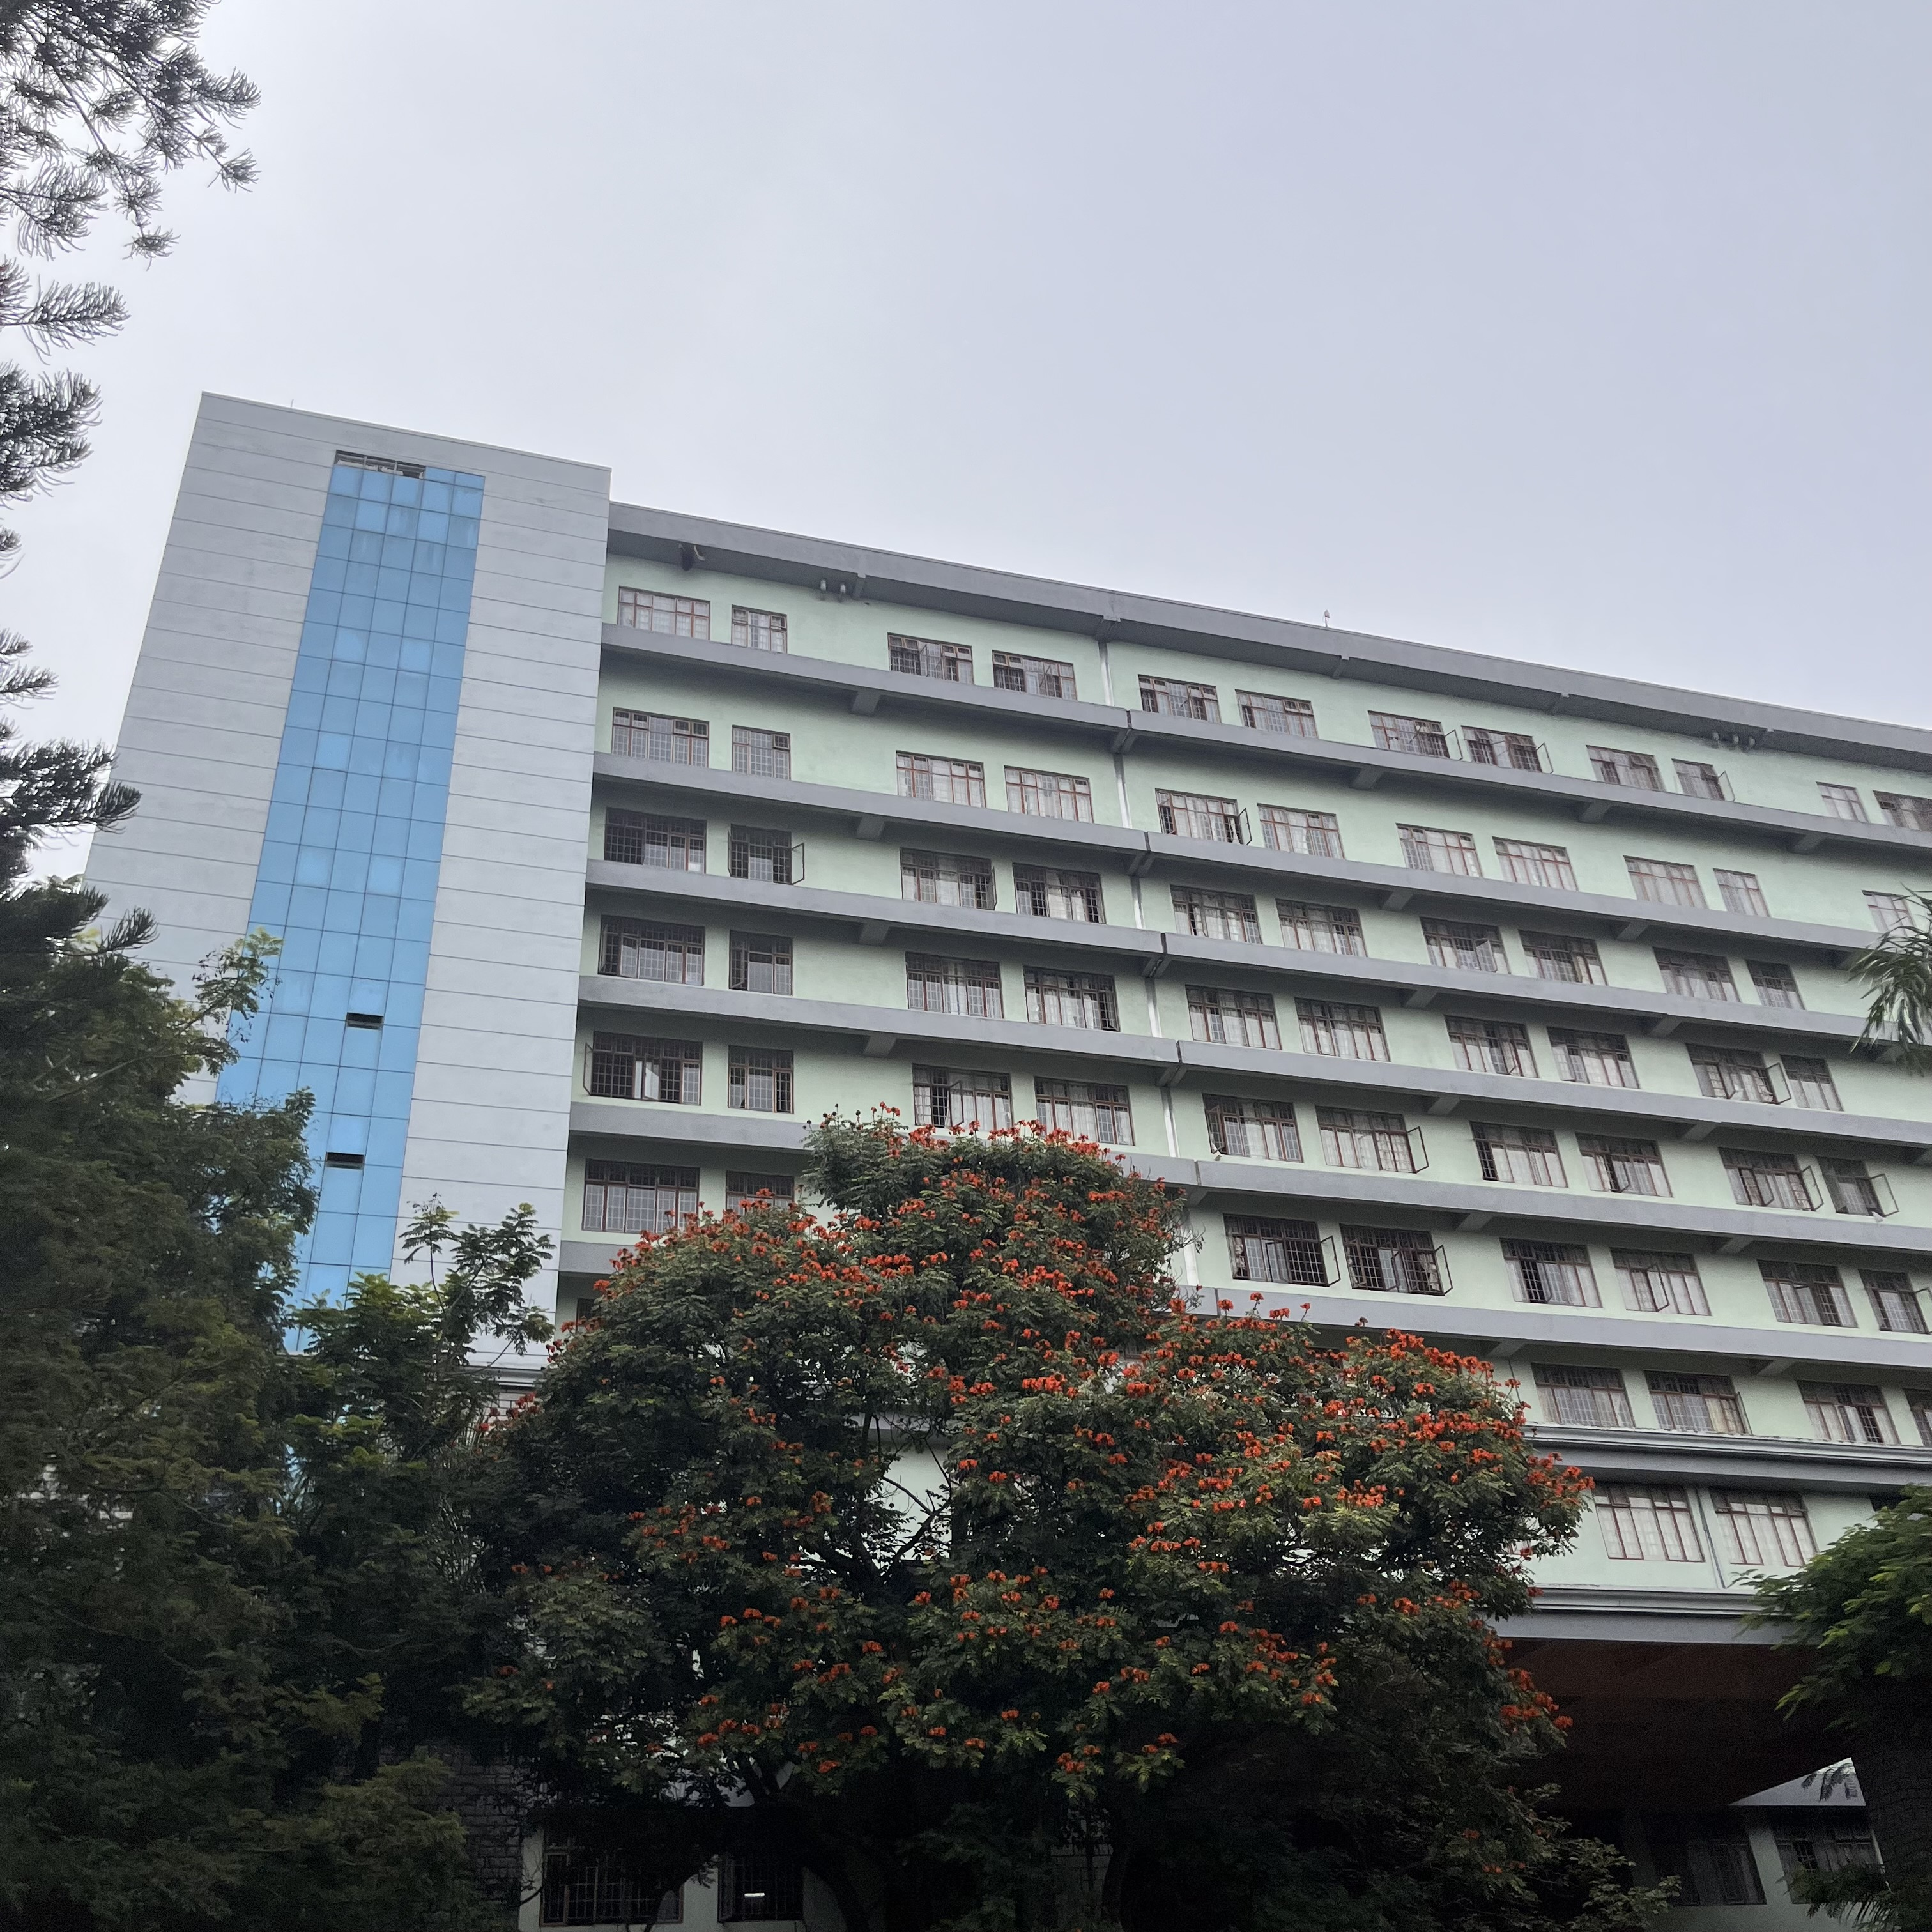Central Block: (108, 347, 1932, 1631)
